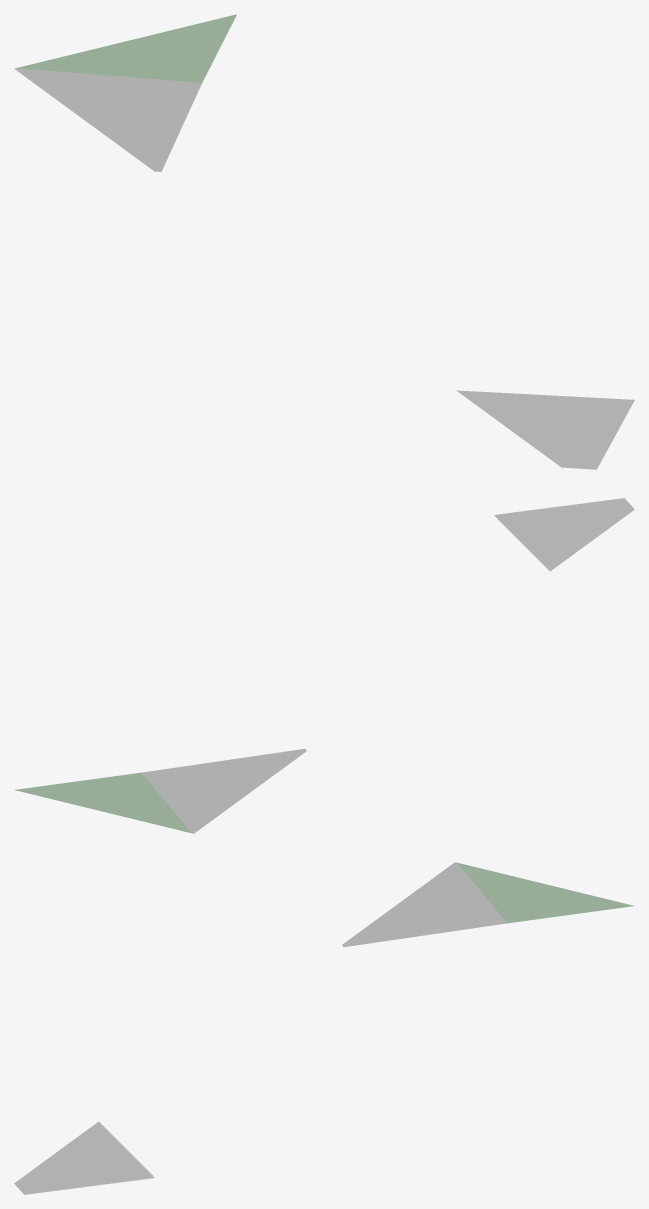
The model's file is 106_86_mid.glb.
3 renders of one model, top to bottom at view 1: azimuth 30°, elevation 25°; view 2: azimuth 150°, elevation 25°; view 3: azimuth 330°, elevation 25°, orthographic. The views are drawn at different scales.
Bounding box in the file's own units: 95.89 × 0.7653 × 416.
